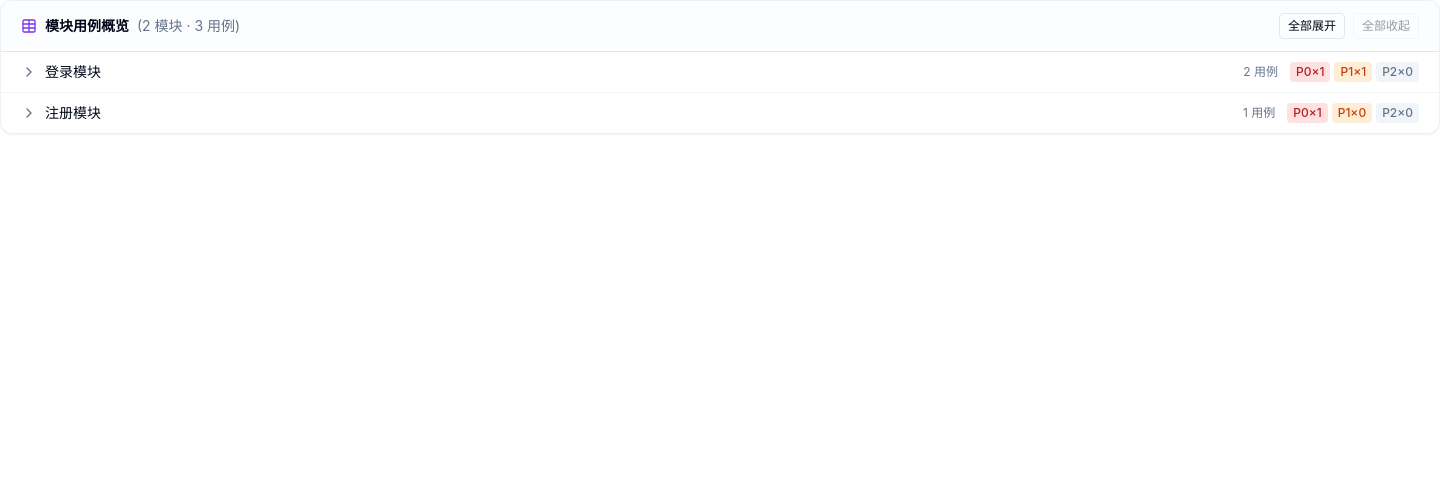
Test: ModuleOverviewTable › expands single module on header click
The width and height of the screenshot is (1440, 503).
Click the text "登录模块": click(73, 72) left=45, top=62, right=101, bottom=82
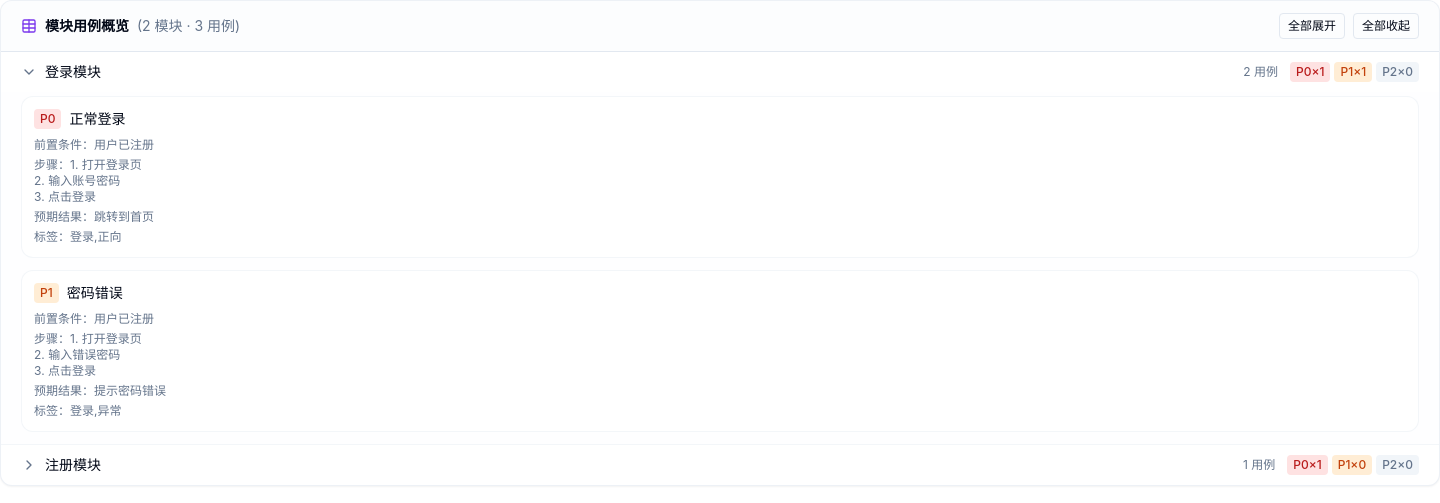
Now the text "正常登录" is shown, box left=70, top=109, right=126, bottom=129
Now the text "密码错误" is shown, box left=67, top=283, right=123, bottom=303
